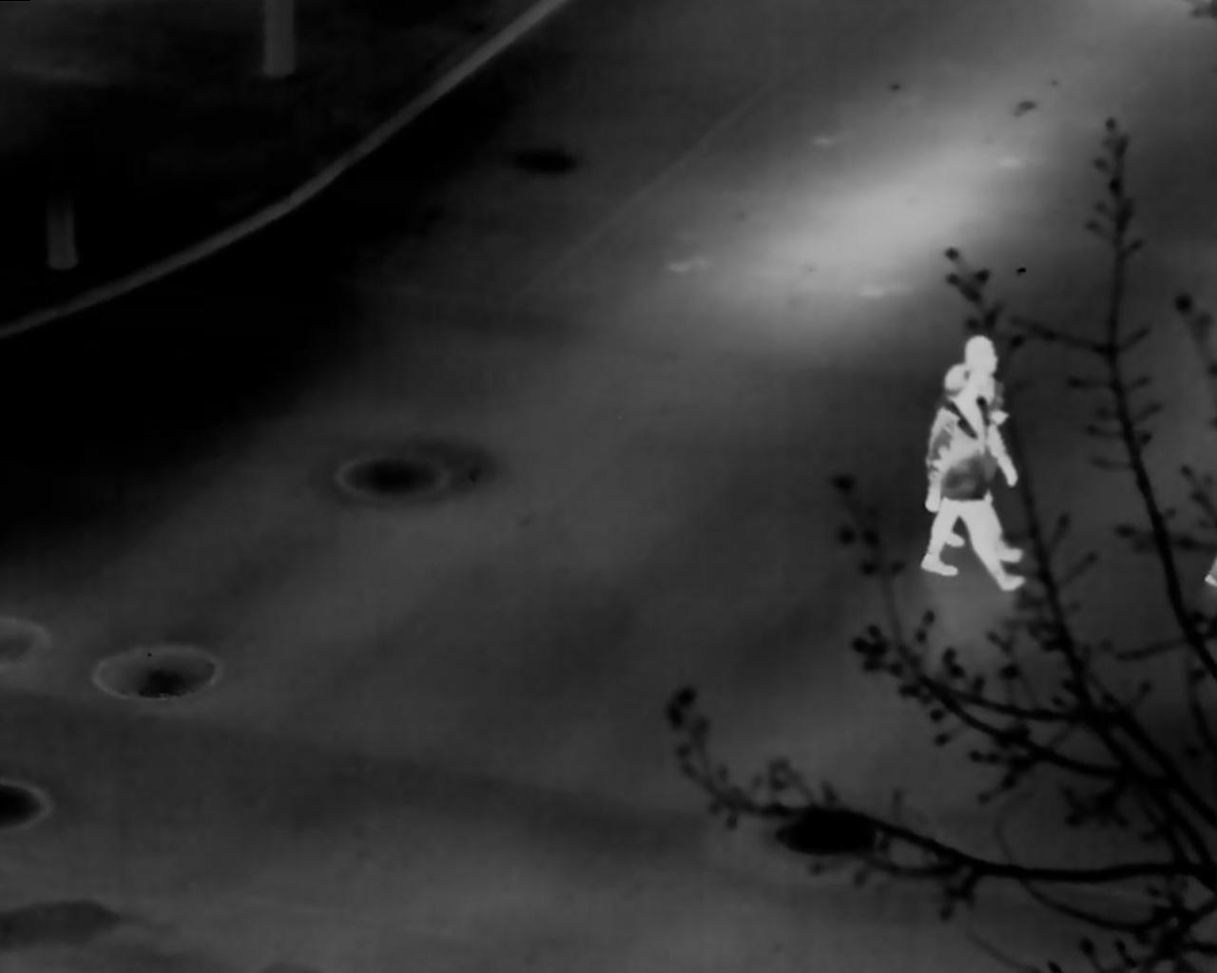person: (917, 361, 1026, 594), (925, 336, 1027, 563)
